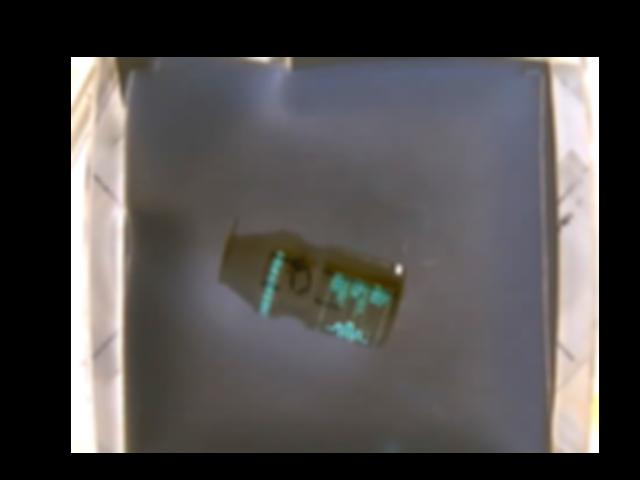Bottle: (214, 227, 406, 349)
